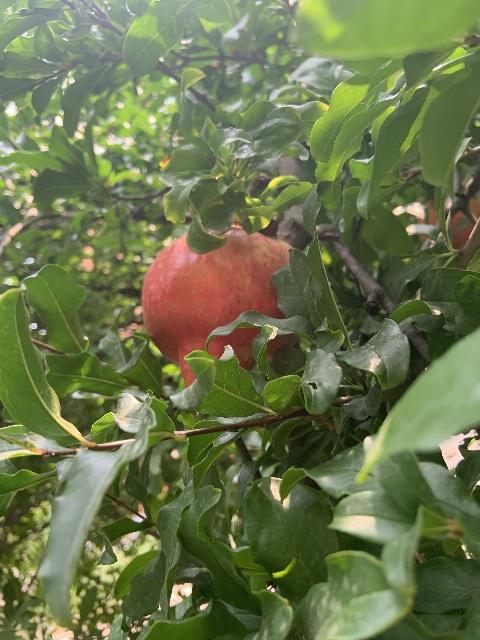ripe: (141, 228, 292, 383)
